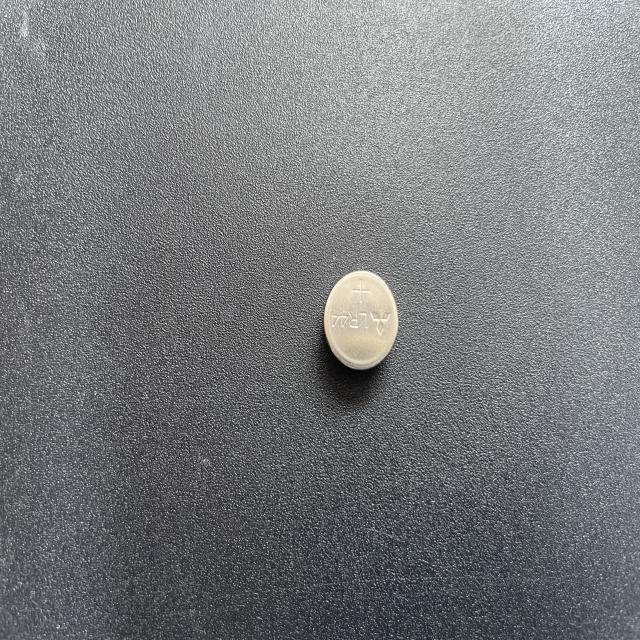COIN: (321, 268, 398, 377)
